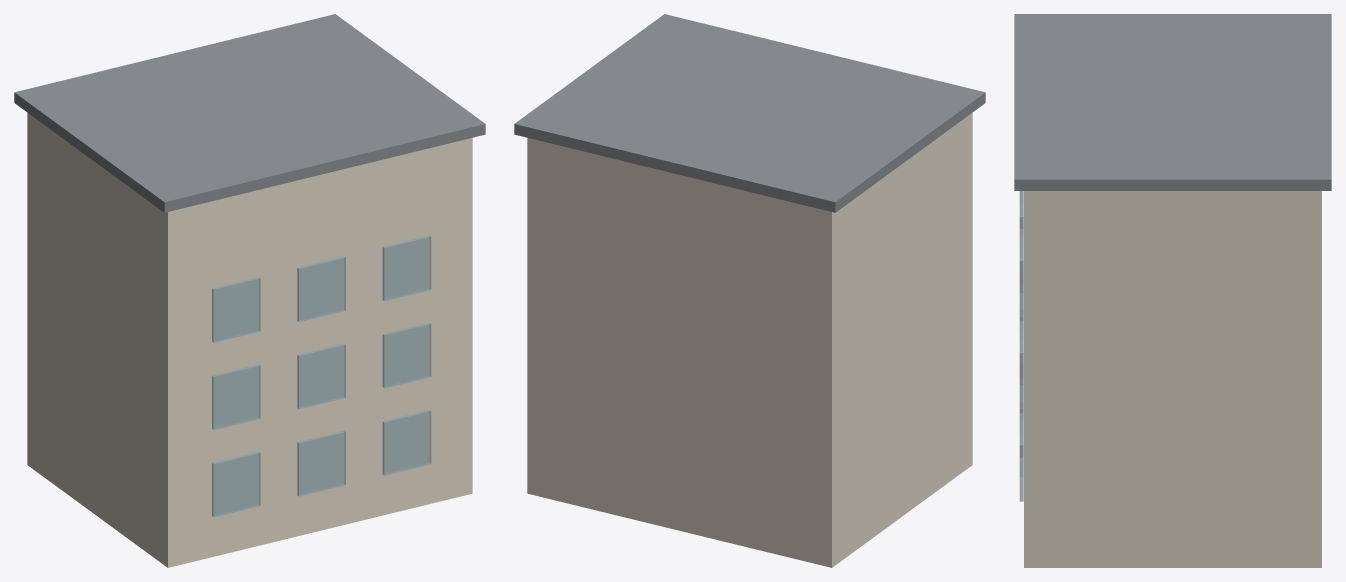
Rendered from building_small_01.glb.
3 views of the same model, side by side, from view 1: azimuth 30°, elevation 25°; view 2: azimuth 150°, elevation 25°; view 3: azimuth 270°, elevation 25° (orthographic). The views are drawn at different scales.
Parts seen in each view (by area): view 1: Mass, Roof, Win_0_2, Win_1_2, Win_2_2, Win_1_1, Win_0_0, Win_0_1, Win_1_0, Win_2_0, Win_2_1; view 2: Mass, Roof; view 3: Mass, Roof, Win_0_2, Win_1_2, Win_2_2.
Boxes of the visible parts, x1,y1,x2,y2 form: Mass: [27, 113, 472, 567]; Roof: [14, 14, 485, 212]; Win_0_2: [382, 410, 431, 475]; Win_1_2: [382, 322, 431, 388]; Win_2_2: [382, 235, 431, 301]; Win_1_1: [297, 343, 345, 409]; Win_0_0: [212, 451, 260, 517]; Win_0_1: [297, 430, 345, 496]; Win_1_0: [212, 364, 260, 429]; Win_2_0: [212, 277, 260, 342]; Win_2_1: [297, 256, 345, 321]; Mass: [527, 113, 972, 567]; Roof: [514, 14, 985, 212]; Mass: [1024, 191, 1321, 567]; Roof: [1014, 14, 1331, 190]; Win_0_2: [1019, 421, 1023, 501]; Win_1_2: [1019, 329, 1023, 409]; Win_2_2: [1019, 236, 1023, 316].
Size of the model in its own units: 7.9 by 8.73 by 6.4.
